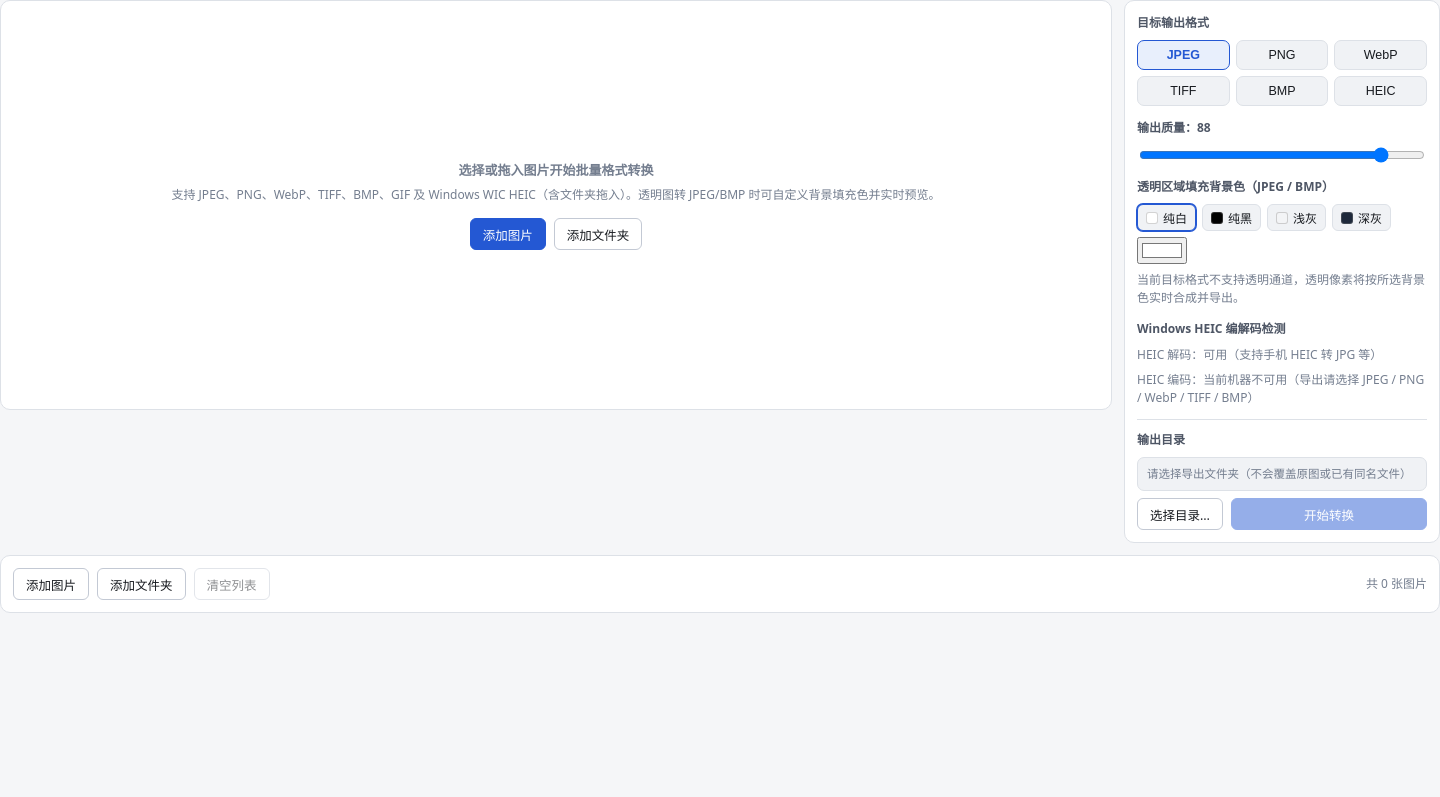
Test: ImageConvertWorkspace (I05) › loads transparent PNG, updates preview background color, and converts batch
The image size is (1440, 797).
Click the button "添加图片" below "选择或拖入图片开始批量格式转换": (508, 234) [470,218,546,250]
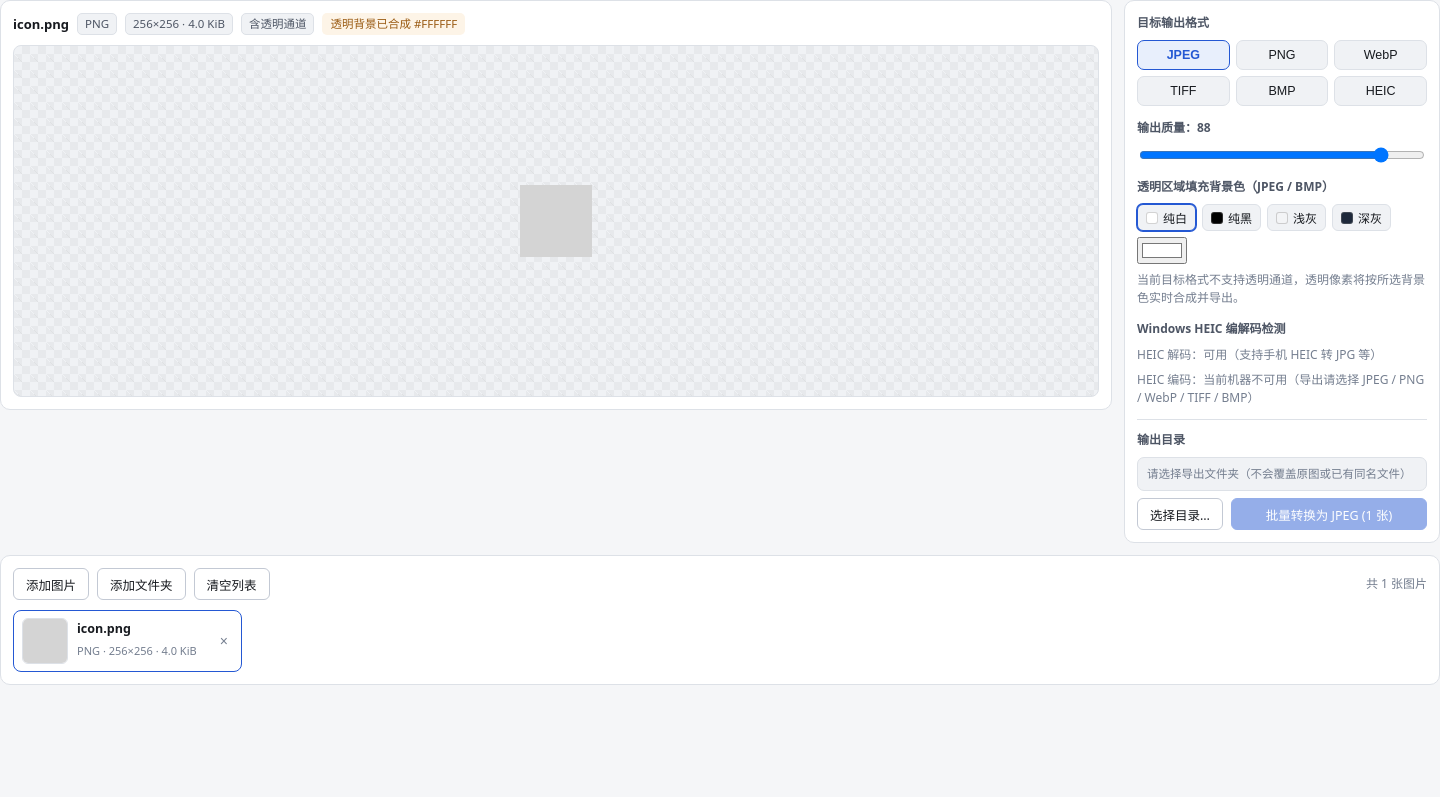
Expected: the text "icon.png" in the row of "含透明通道" is shown, [13,15,69,33]
Click the button "纯黑": (1232, 218) [1202,204,1261,231]
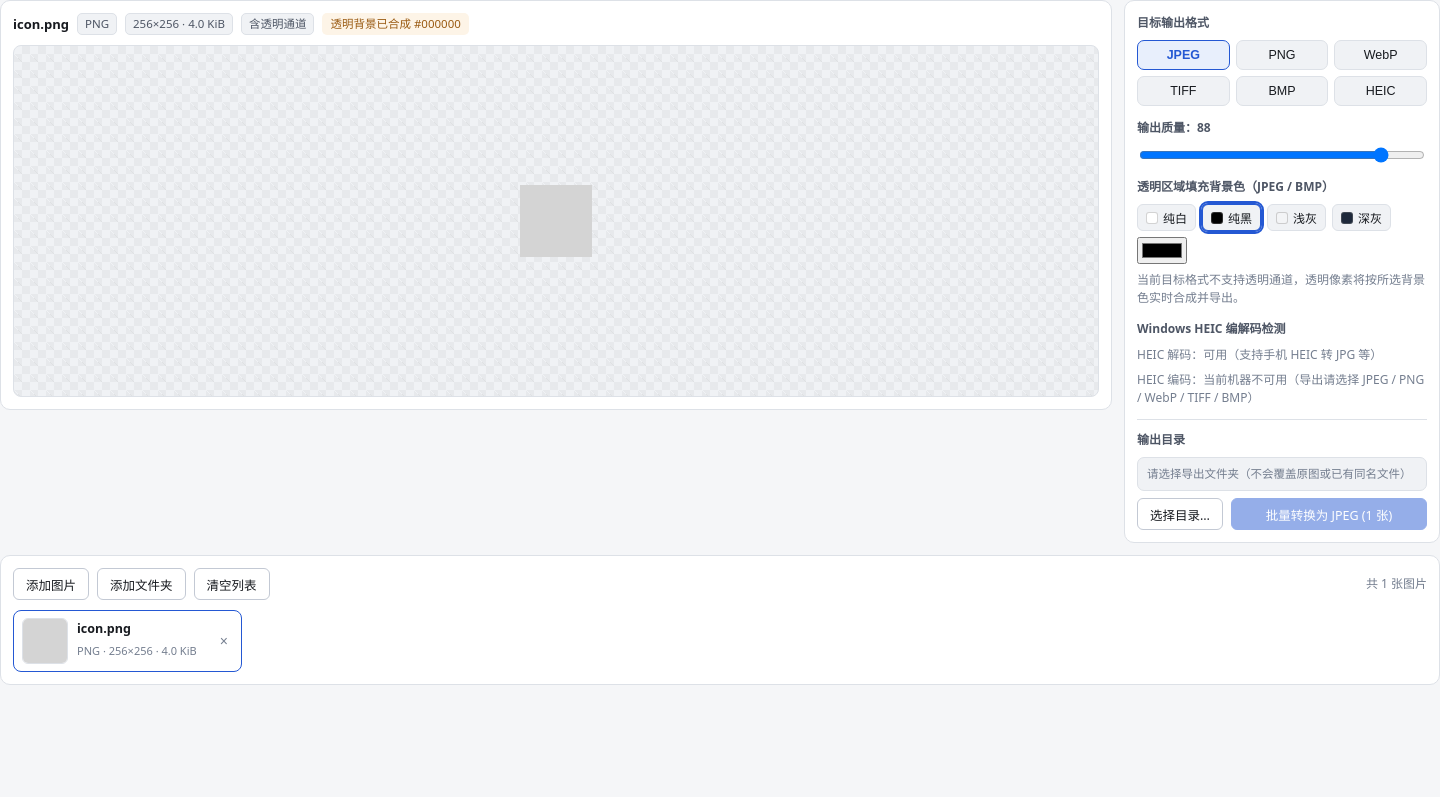
Click the button "选择目录…": (1180, 514) [1137,498,1223,530]
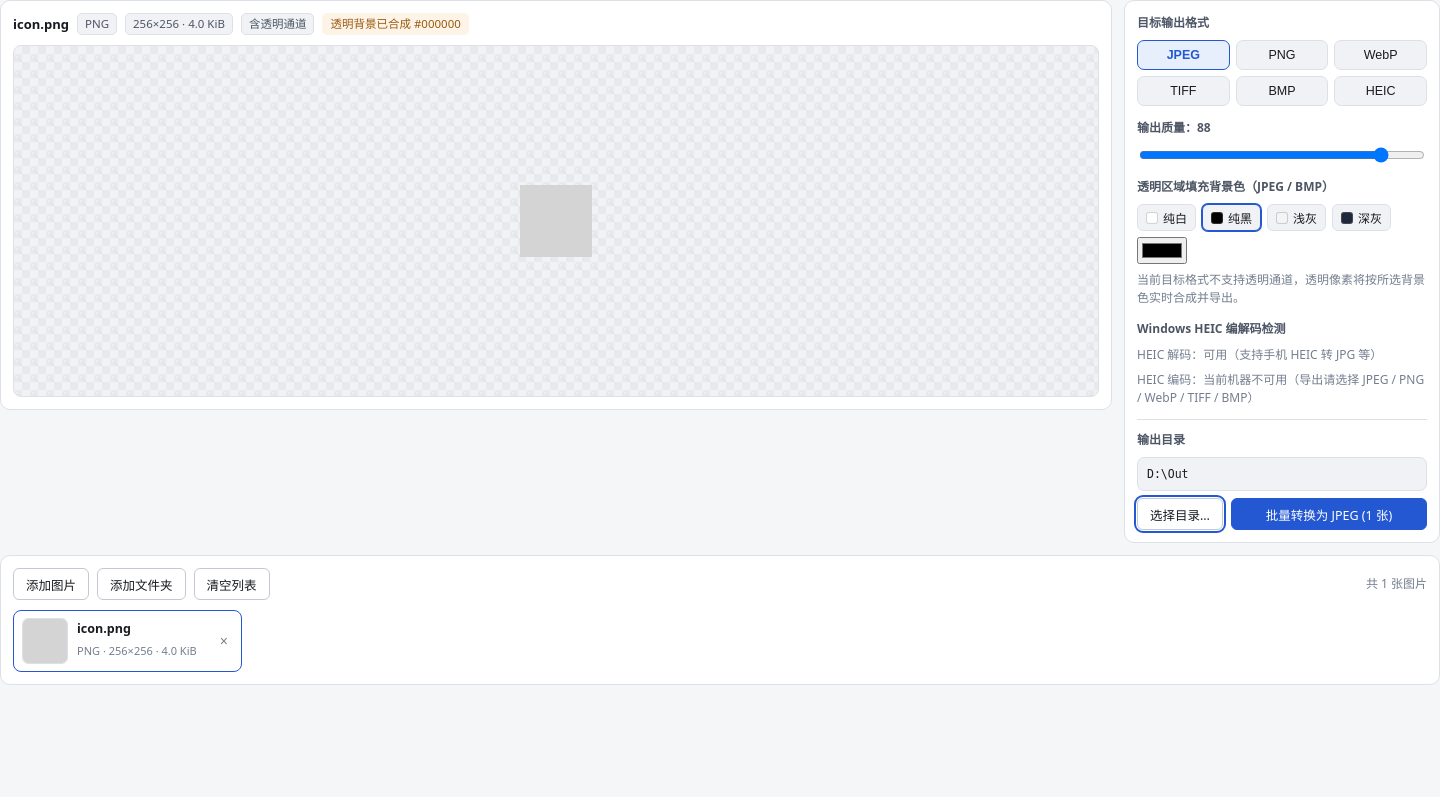
Click the button "批量转换为 JPEG (1 张)": (1329, 514) [1231,498,1427,530]
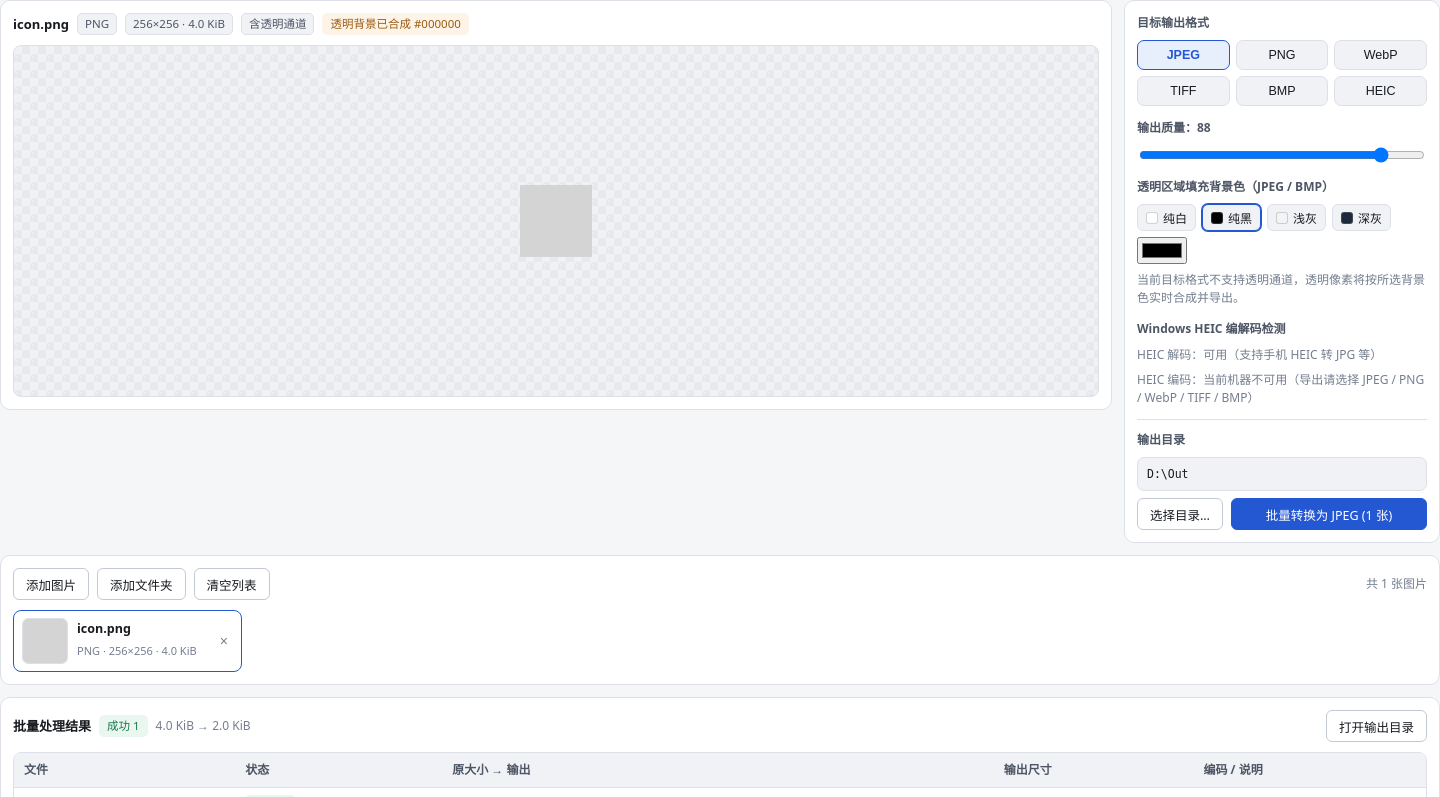
Expected: the text "批量处理结果" is shown, [13,716,91,736]
